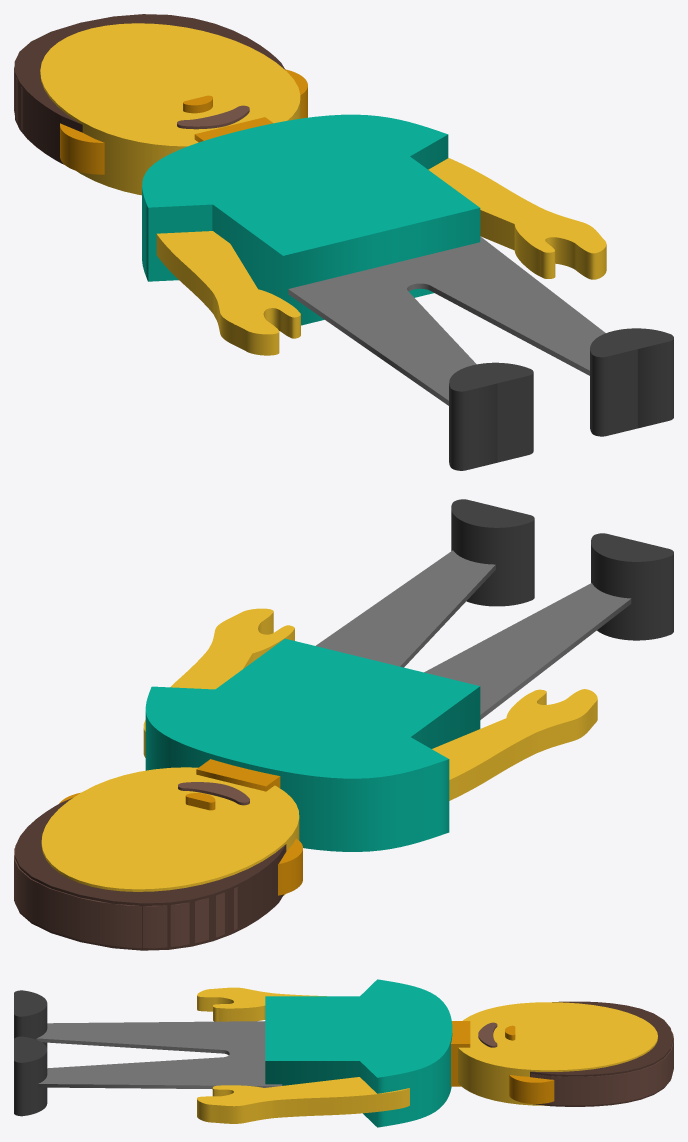
The model's file is emoji_u1f9cd_200d_2642.glb.
3 renders of one model, top to bottom at view 1: azimuth 30°, elevation 25°; view 2: azimuth 150°, elevation 25°; view 3: azimuth 270°, elevation 25°, orthographic. The views are drawn at different scales.
Parts seen in each view (by area): view 1: emoji_u1f9cd_200d_2642; view 2: emoji_u1f9cd_200d_2642; view 3: emoji_u1f9cd_200d_2642.
Part boxes in pixels (<box>): emoji_u1f9cd_200d_2642: <box>14,14,673,470</box>; emoji_u1f9cd_200d_2642: <box>14,499,673,950</box>; emoji_u1f9cd_200d_2642: <box>14,979,673,1127</box>.
Bounding box in the file's own units: 0.0145 × 0.003 × 0.0336.
